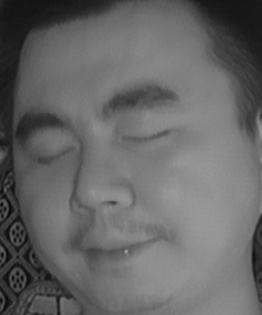blink: (119, 117, 176, 155), (34, 137, 78, 171)
mouth: (70, 219, 160, 279)
